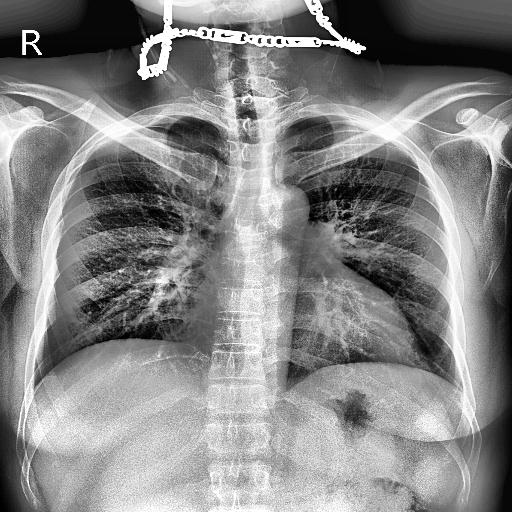0- Aortic enlargement: (258, 184, 310, 228)
11- Pleural thickening: (126, 115, 208, 125)
3- Cardiomegaly: (182, 304, 428, 386), (186, 287, 426, 367), (192, 298, 418, 368)
